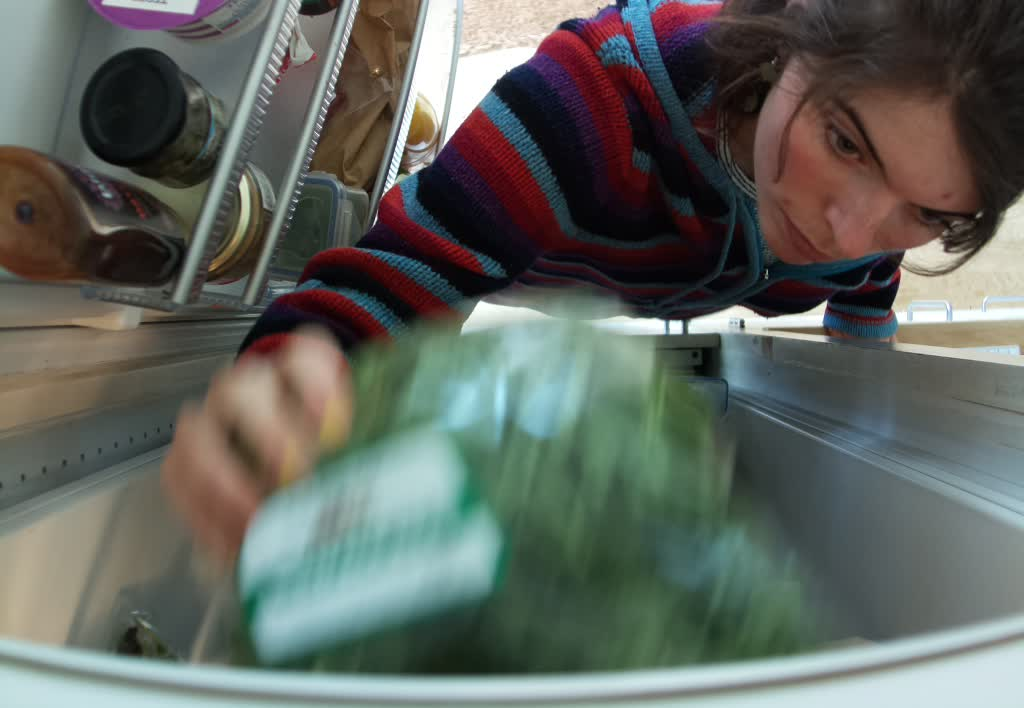salad: (217, 312, 861, 673)
